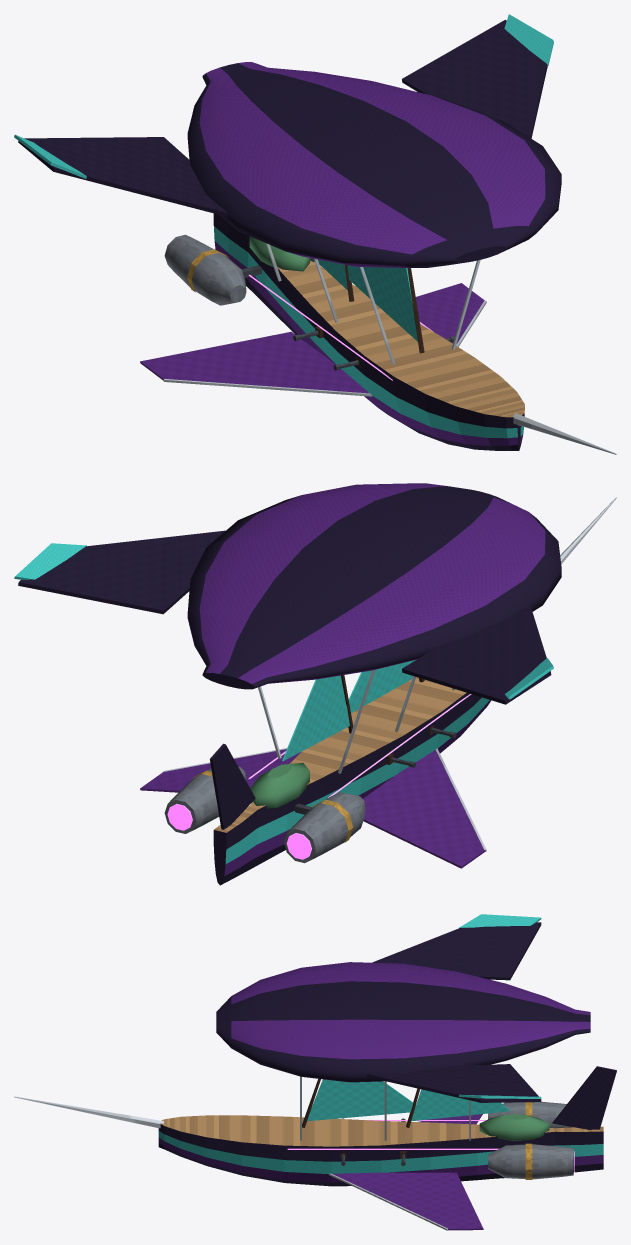
Rendered from SM_Ship_Mirage_HQ.glb.
The picture shows the model from 3 angles, top to bottom: view 1: azimuth 30°, elevation 25°; view 2: azimuth 150°, elevation 25°; view 3: azimuth 270°, elevation 25°; orthographic projection. The views are drawn at different scales.
Visible parts, largest first — view 1: SM_Ship_Mirage_HQ; view 2: SM_Ship_Mirage_HQ; view 3: SM_Ship_Mirage_HQ.
Boxes of the visible parts, x1=… form: SM_Ship_Mirage_HQ: x1=14, y1=14, x2=616, y2=454; SM_Ship_Mirage_HQ: x1=14, y1=483, x2=616, y2=885; SM_Ship_Mirage_HQ: x1=14, y1=914, x2=616, y2=1230.
Bounding box in the file's own units: 19.44 × 9.13 × 27.1.
1 material, 1 textured.
